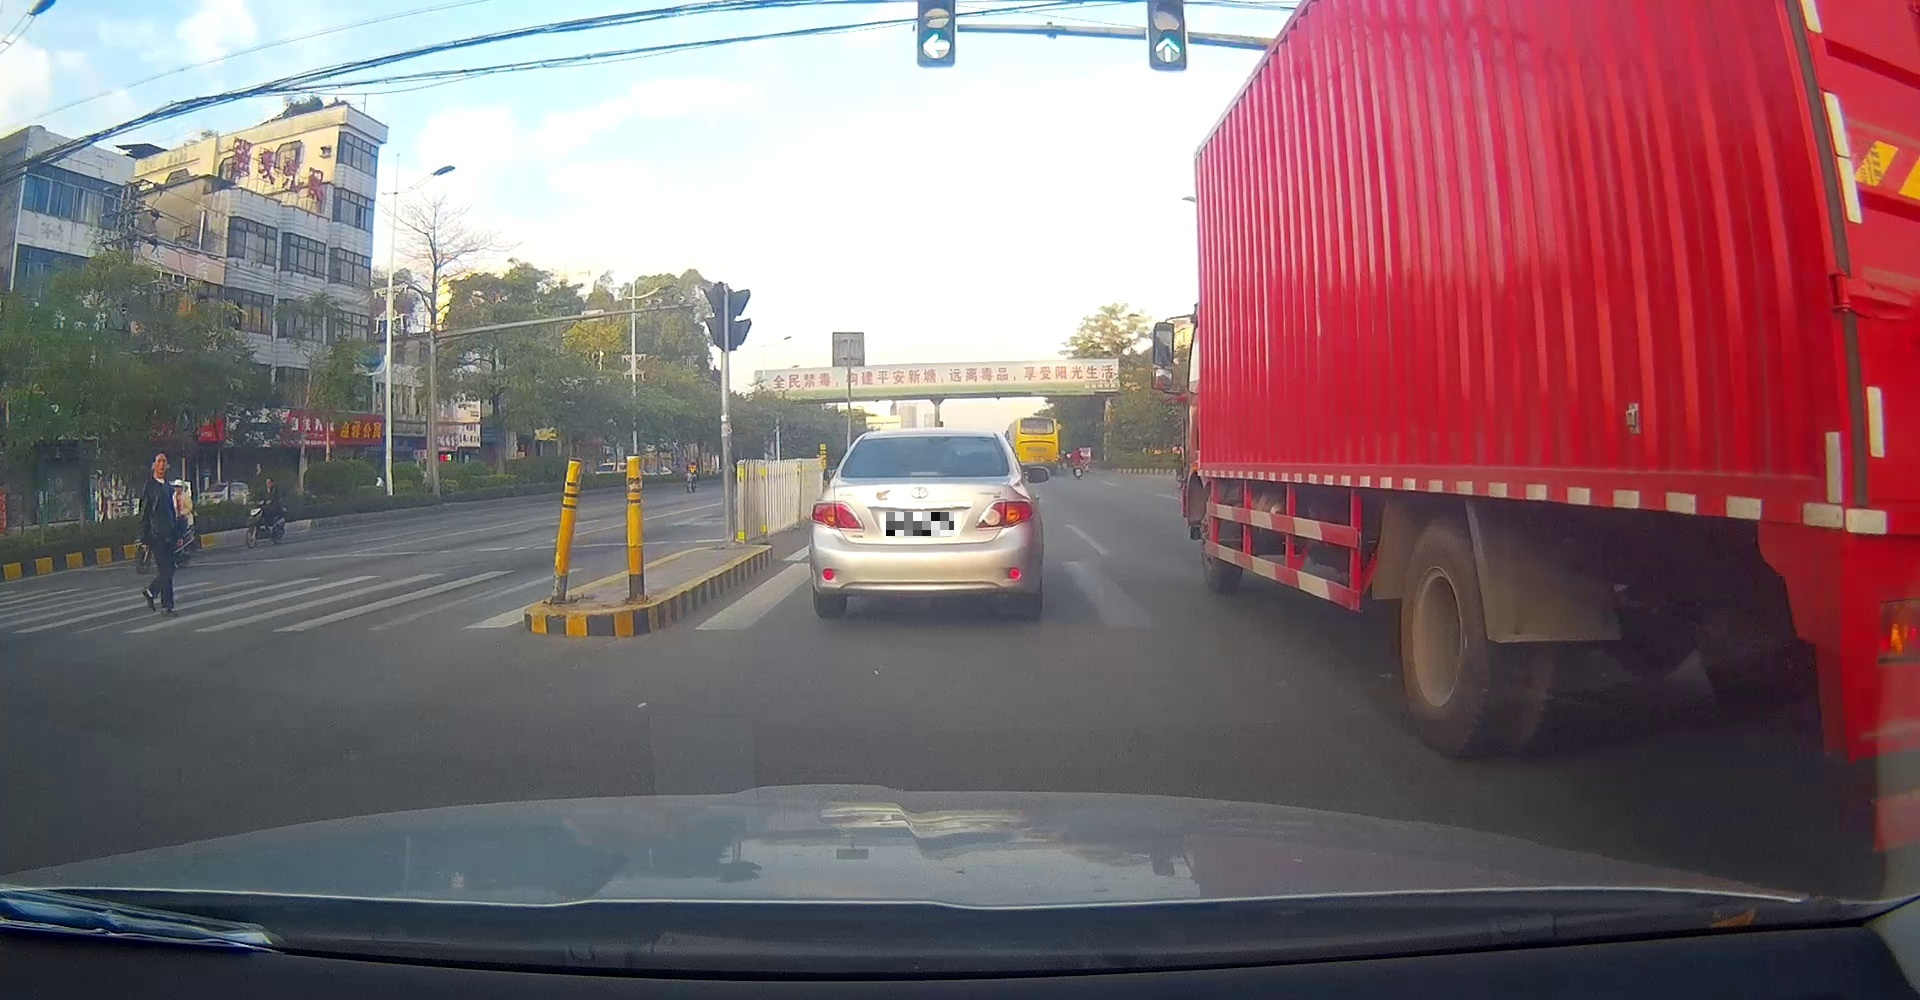L_light: (809, 501, 865, 530)
R_light: (974, 499, 1034, 530)
T_light: (908, 470, 941, 478)
day-no: (806, 426, 1043, 621)
plate_1: (886, 511, 954, 536)
